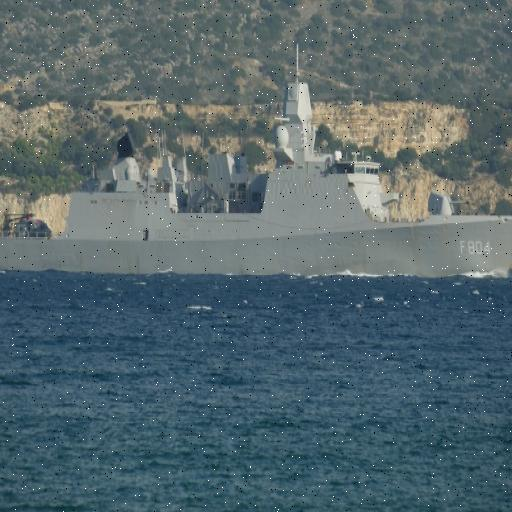Fragata: (1, 30, 512, 282)
